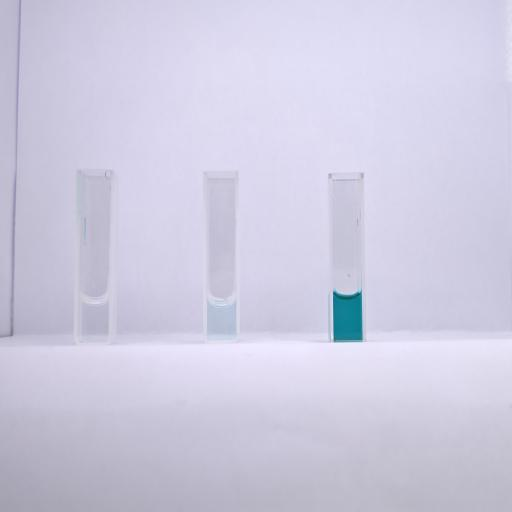cuvette: (72, 165, 116, 348), (326, 170, 368, 346), (201, 167, 242, 347)
liquid: (334, 290, 361, 340), (80, 296, 108, 340), (207, 298, 235, 340)
